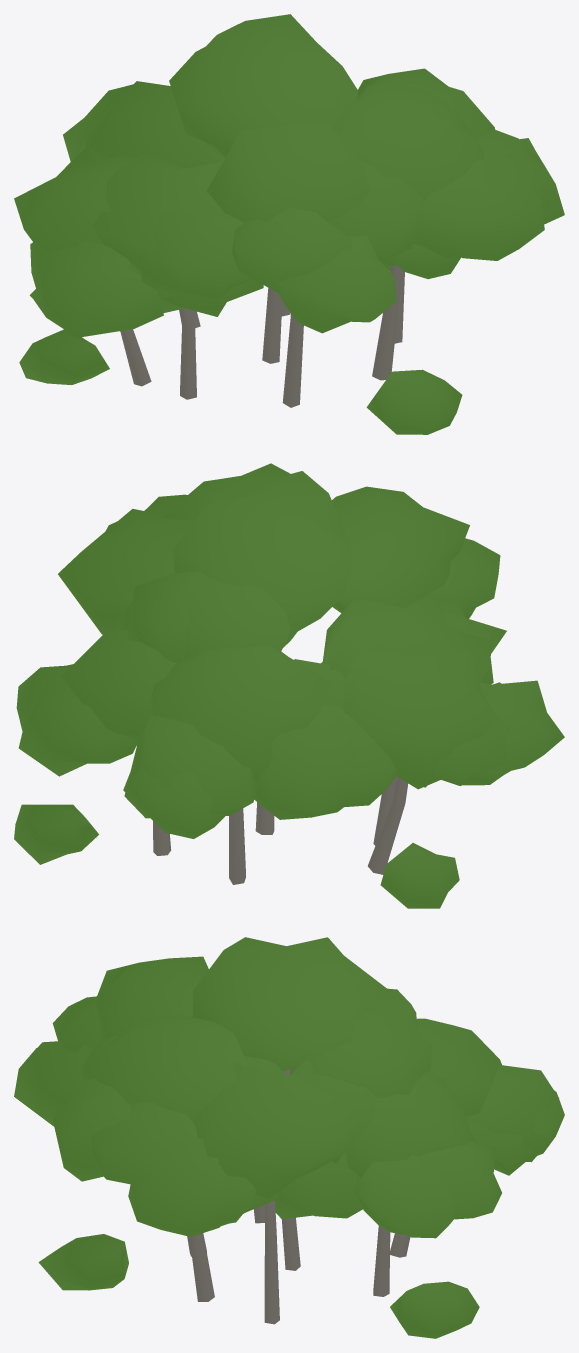
Rendered from Blender_GambelOak_1.glb.
The picture shows the model from 3 angles, top to bottom: view 1: azimuth 30°, elevation 25°; view 2: azimuth 150°, elevation 25°; view 3: azimuth 270°, elevation 25°; orthographic projection. The views are drawn at different scales.
Parts seen in each view (by area): view 1: Blender_GambelOak_1; view 2: Blender_GambelOak_1; view 3: Blender_GambelOak_1.
Part boxes in pixels (x1,y1,x2,y2): Blender_GambelOak_1: (14, 14, 564, 434); Blender_GambelOak_1: (14, 463, 564, 908); Blender_GambelOak_1: (14, 937, 564, 1338).
Size of the model in its own units: 7.69 by 5.09 by 7.92.
